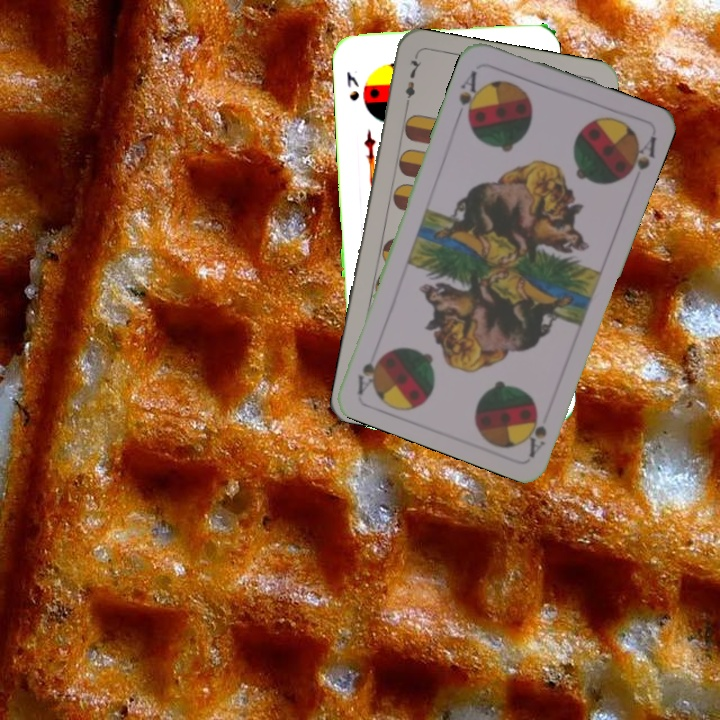E7: (401, 53, 424, 112)
SA: (454, 66, 485, 124), (520, 404, 550, 459)
SK: (343, 67, 362, 104)
